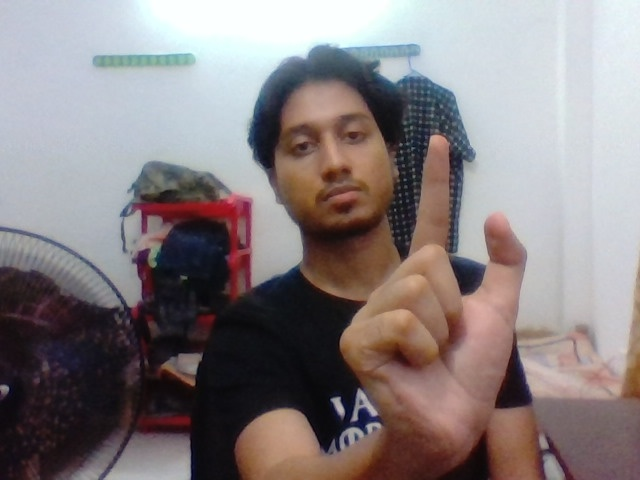J: (367, 126, 543, 349)
